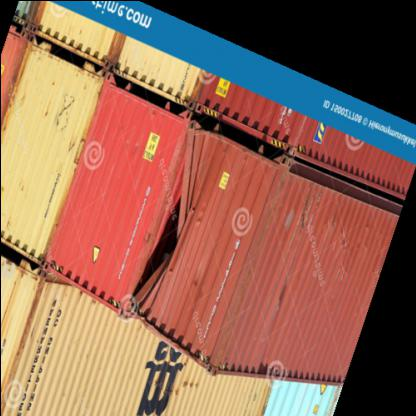Damage: (121, 173, 198, 323)
